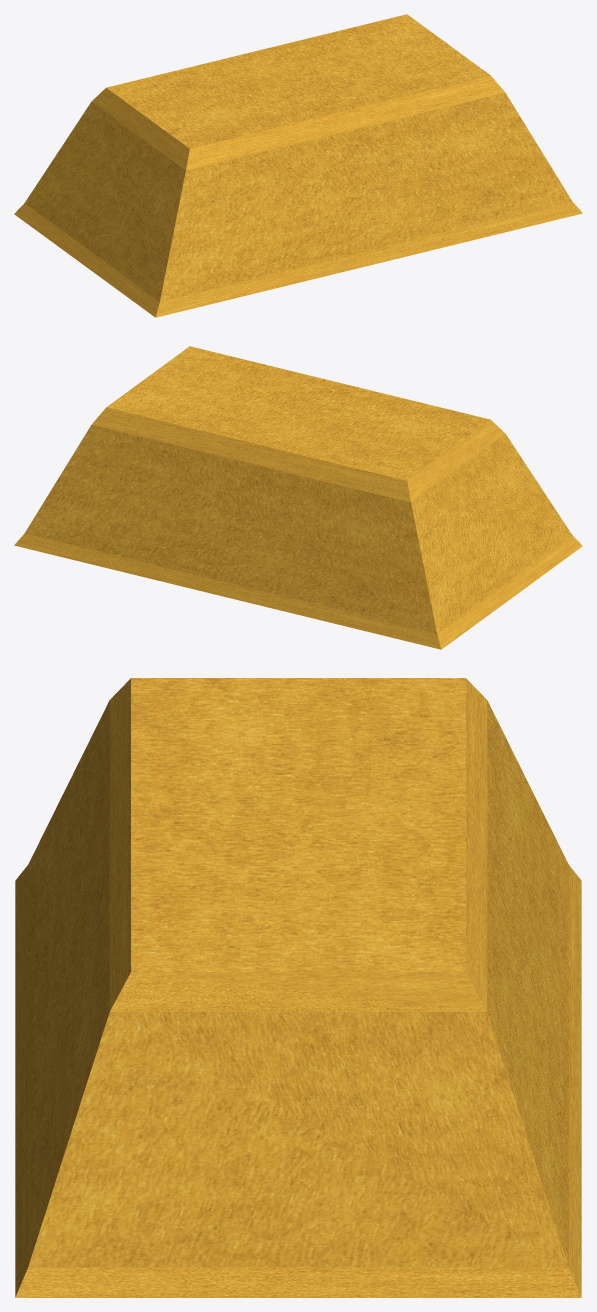
File: Gold_bar_P.obj
3 views of the same model, one above another, from view 1: azimuth 30°, elevation 25°; view 2: azimuth 150°, elevation 25°; view 3: azimuth 270°, elevation 25° (orthographic). The views are drawn at different scales.
Visible parts, largest first — view 1: Gold_bar_P; view 2: Gold_bar_P; view 3: Gold_bar_P.
Part boxes in pixels (x1,y1,x2,y2): Gold_bar_P: (14,14,582,317); Gold_bar_P: (14,346,582,649); Gold_bar_P: (15,678,581,1297).
Size of the model in its own units: 0.23 by 0.068 by 0.132.
Materials: 1 (1 with a texture image).
